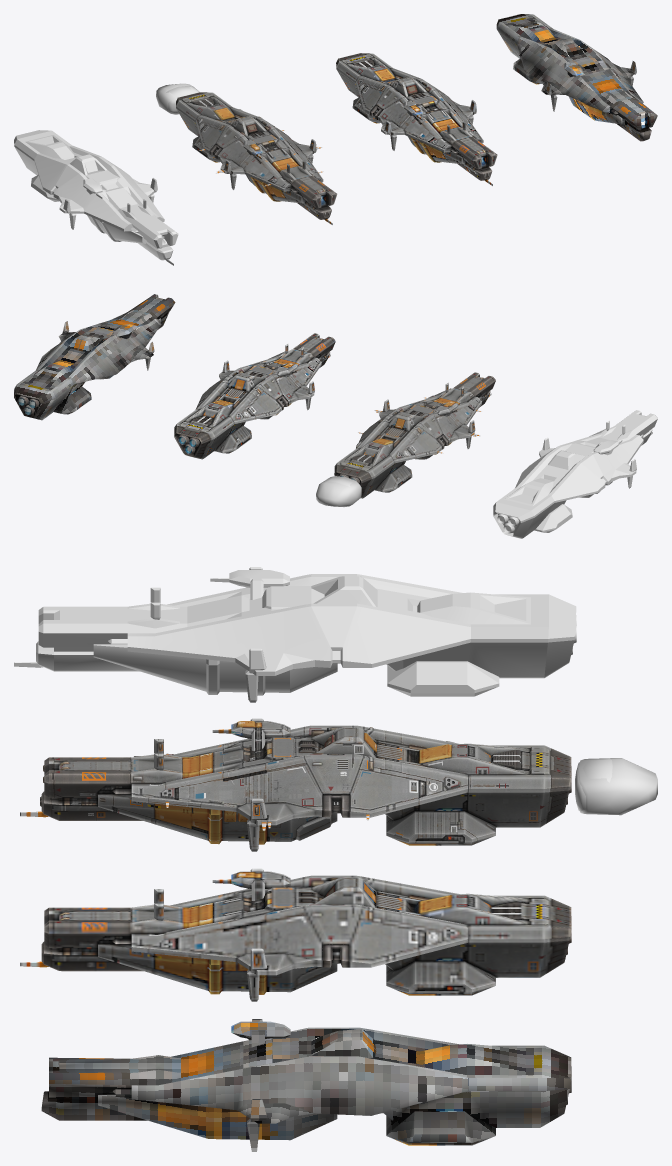
The model's file is hgn_36_ionfrigate_T4.dae.
The picture shows the model from 3 angles, top to bottom: view 1: azimuth 30°, elevation 25°; view 2: azimuth 150°, elevation 25°; view 3: azimuth 270°, elevation 25°; orthographic projection. The views are drawn at different scales.
Parts seen in each view (by area): view 1: COL[Root], MULT[Horizon]_LOD[0]_TAGS[DoScar], MULT[Horizon]_LOD[1]_TAGS[DoScar], MULT[Horizon]_LOD[2]_TAGS[DoScar], GLOW[EngGlow_stg4]_LOD[0]; view 2: COL[Root], MULT[Horizon]_LOD[1]_TAGS[DoScar], MULT[Horizon]_LOD[0]_TAGS[DoScar], MULT[Horizon]_LOD[2]_TAGS[DoScar], GLOW[EngGlow_stg4]_LOD[0]; view 3: COL[Root], MULT[Horizon]_LOD[0]_TAGS[DoScar], MULT[Horizon]_LOD[1]_TAGS[DoScar], MULT[Horizon]_LOD[2]_TAGS[DoScar], GLOW[EngGlow_stg4]_LOD[0].
Boxes of the visible parts, box(x1,y1,x2,y2) form: COL[Root]: box(14, 130, 178, 265); MULT[Horizon]_LOD[0]_TAGS[DoScar]: box(176, 92, 337, 224); MULT[Horizon]_LOD[1]_TAGS[DoScar]: box(336, 53, 497, 185); MULT[Horizon]_LOD[2]_TAGS[DoScar]: box(496, 14, 657, 141); GLOW[EngGlow_stg4]_LOD[0]: box(156, 83, 199, 114); COL[Root]: box(493, 410, 657, 538); MULT[Horizon]_LOD[1]_TAGS[DoScar]: box(174, 333, 335, 459); MULT[Horizon]_LOD[0]_TAGS[DoScar]: box(334, 372, 495, 498); MULT[Horizon]_LOD[2]_TAGS[DoScar]: box(14, 294, 175, 420); GLOW[EngGlow_stg4]_LOD[0]: box(316, 476, 361, 507); COL[Root]: box(14, 567, 576, 702); MULT[Horizon]_LOD[0]_TAGS[DoScar]: box(20, 718, 571, 851); MULT[Horizon]_LOD[1]_TAGS[DoScar]: box(20, 868, 571, 1001); MULT[Horizon]_LOD[2]_TAGS[DoScar]: box(41, 1019, 571, 1151); GLOW[EngGlow_stg4]_LOD[0]: box(575, 758, 657, 815).
Size of the model in its own units: 445 by 42.33 by 226.
